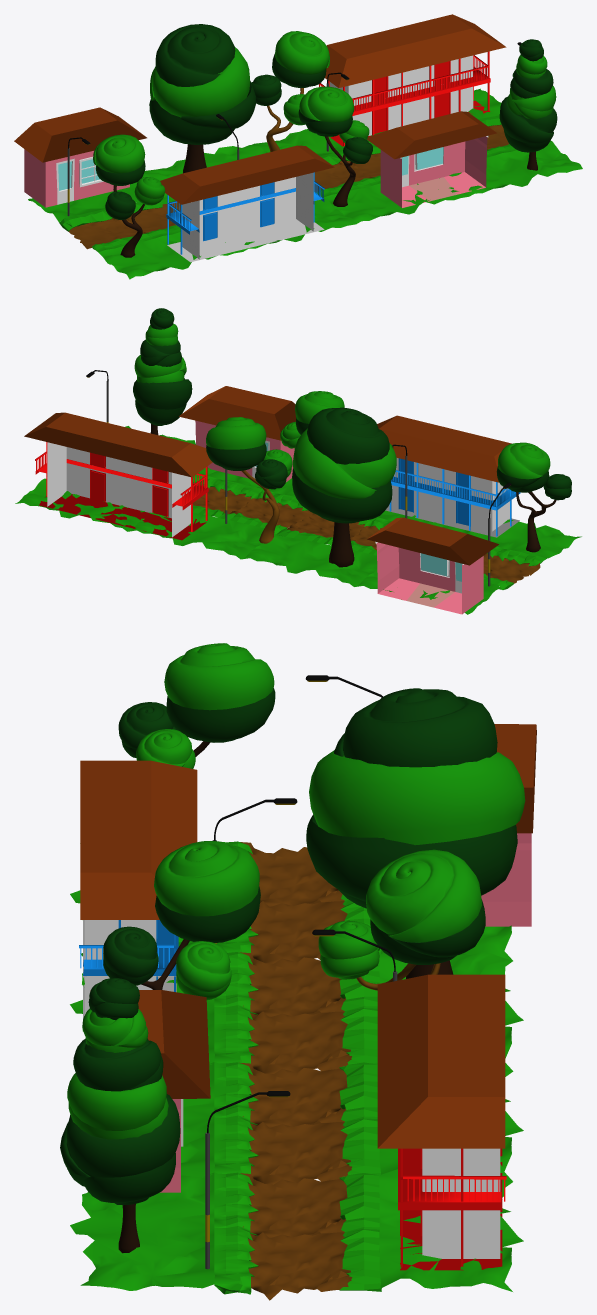
File: Campo1.fbx
The picture shows the model from 3 angles, top to bottom: view 1: azimuth 30°, elevation 25°; view 2: azimuth 150°, elevation 25°; view 3: azimuth 270°, elevation 25°; orthographic projection. The views are drawn at different scales.
Parts seen in each view (by area): view 1: Plane030, casa001, casa, arbol003, arbol2 (×2), edifio033, edifio032, arbol004, arbol005; view 2: Plane030, casa001, casa, arbol003, edifio032, arbol2 (×2), arbol004, edifio033, arbol005; view 3: Plane030, arbol2 (×2), casa001, arbol003, casa, arbol004, arbol005, edifio033, edifio032, farola008.
Boxes of the visible parts, bbox=[...] form: Plane030: bbox=[28, 88, 582, 279]; casa001: bbox=[319, 14, 506, 146]; casa: bbox=[160, 145, 334, 262]; arbol003: bbox=[149, 24, 256, 173]; arbol2 (×2): bbox=[298, 39, 557, 206]; edifio033: bbox=[367, 111, 496, 207]; edifio032: bbox=[14, 107, 146, 207]; arbol004: bbox=[251, 31, 329, 151]; arbol005: bbox=[93, 134, 165, 257]; Plane030: bbox=[15, 426, 581, 614]; casa001: bbox=[24, 412, 212, 540]; casa: bbox=[377, 415, 520, 537]; arbol003: bbox=[292, 407, 396, 567]; edifio032: bbox=[367, 517, 498, 614]; arbol2 (×2): bbox=[133, 308, 344, 448]; arbol004: bbox=[206, 417, 292, 543]; edifio033: bbox=[179, 386, 295, 481]; arbol005: bbox=[496, 442, 571, 552]; Plane030: bbox=[70, 841, 523, 1300]; arbol2 (×2): bbox=[60, 841, 260, 1253]; casa001: bbox=[377, 974, 506, 1270]; arbol003: bbox=[306, 688, 525, 978]; casa: bbox=[79, 760, 197, 1018]; arbol004: bbox=[318, 849, 485, 990]; arbol005: bbox=[118, 643, 275, 768]; edifio033: bbox=[90, 990, 210, 1192]; edifio032: bbox=[481, 724, 536, 926]; farola008: bbox=[205, 1091, 290, 1269].
Size of the model in its own units: 1297 by 412 by 577.
